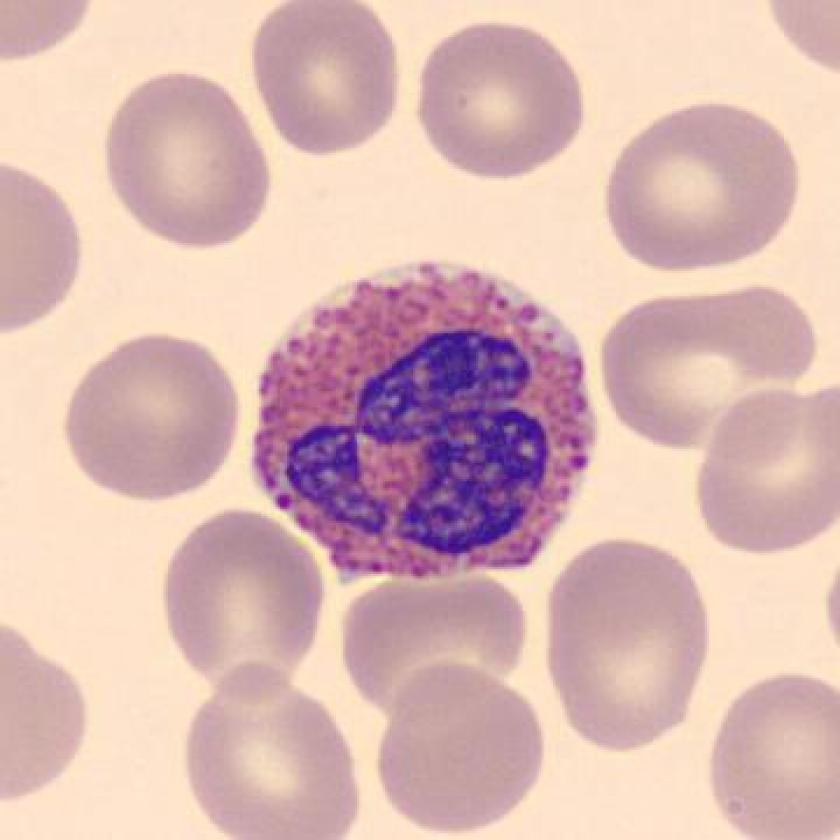eosinophil: (242, 253, 613, 591)
